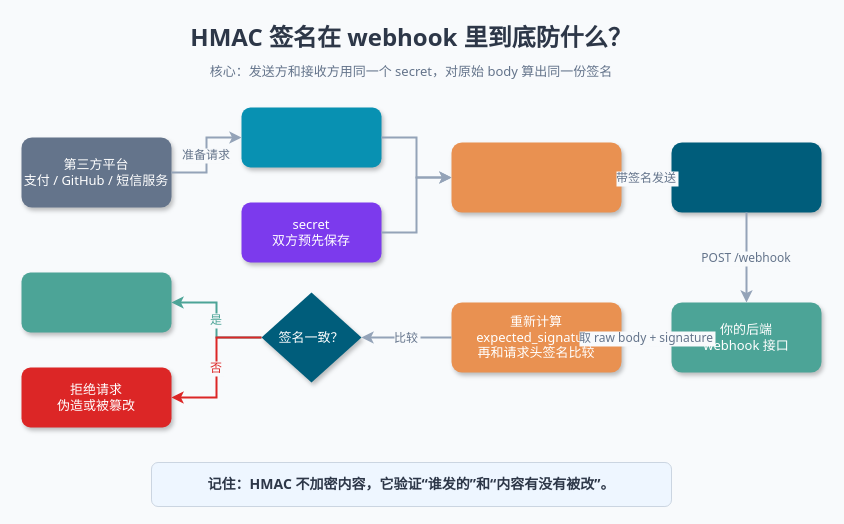
The diagram is 844 pixels wide and 524 high, and some of its shapes have lost their labels. The shapes that lost their labels are listed below. From the top down, each one's centre as x and y in pixels, then its label:
At (312,138): "原始 body raw_body".
At (537,178): "计算 HMAC-SHA256 signature = HMAC(secret, raw_body)".
At (747,178): "发送 webhook body + X-Signature".
At (97,303): "处理业务 更新订单 / 记录事件".
